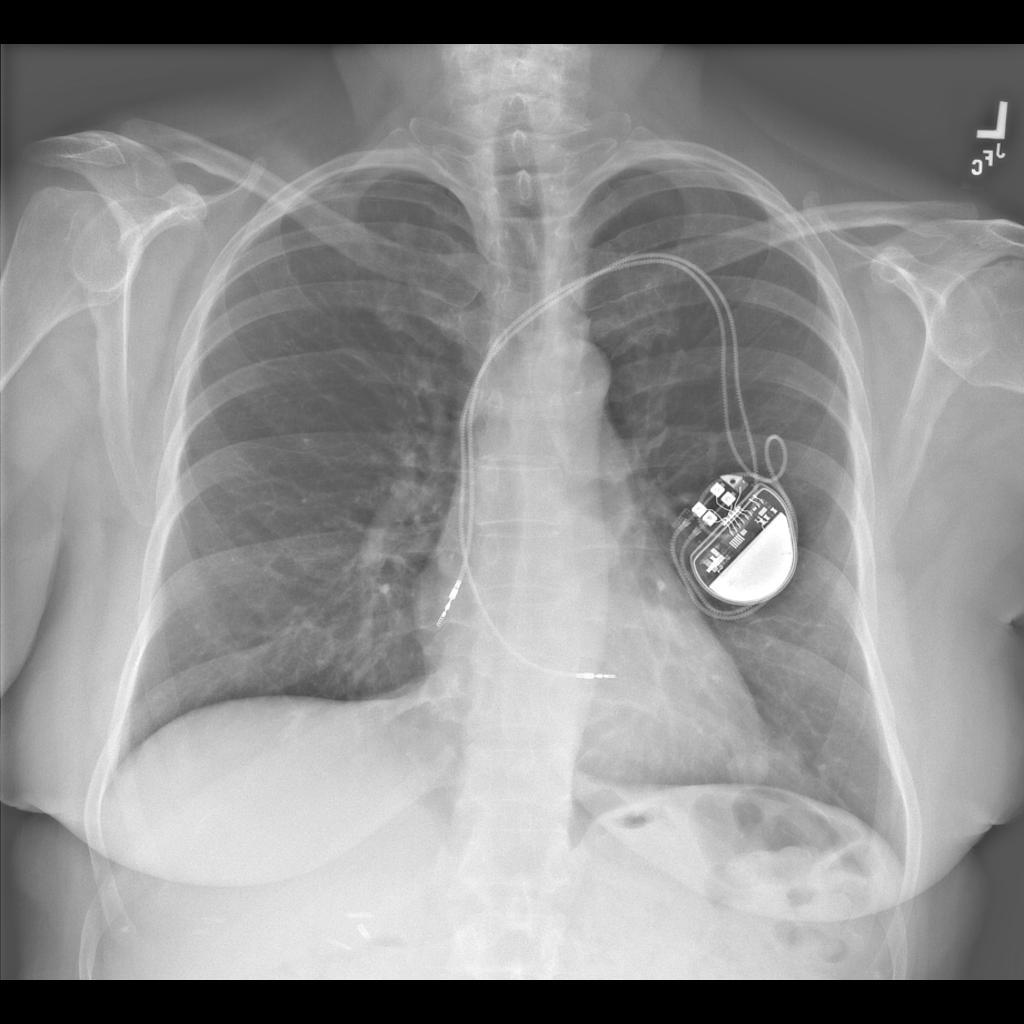Nodule: (719, 752, 794, 795)
